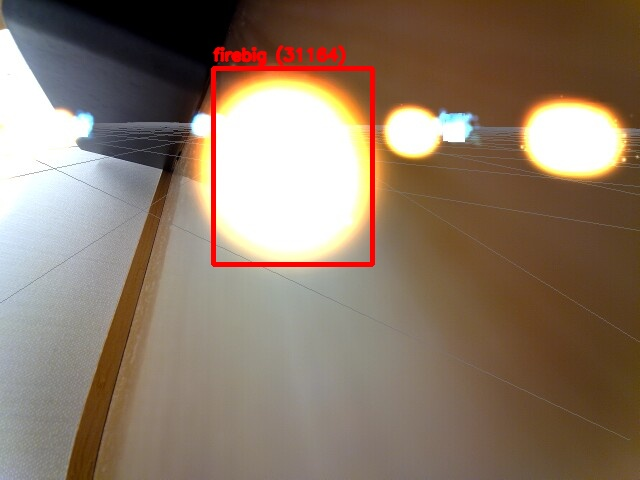firebig: (213, 68, 372, 264)
